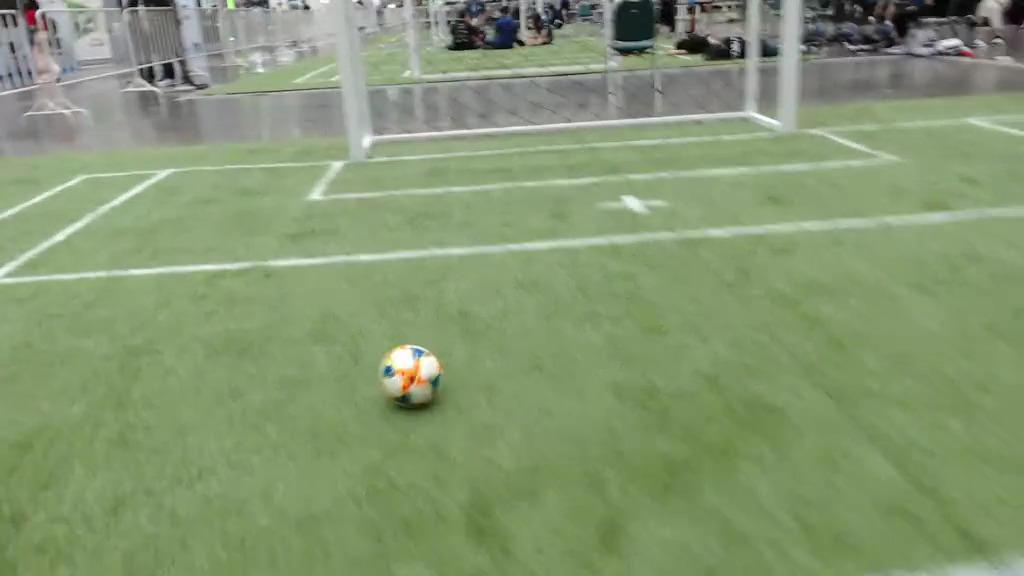ball: (382, 347, 442, 410)
